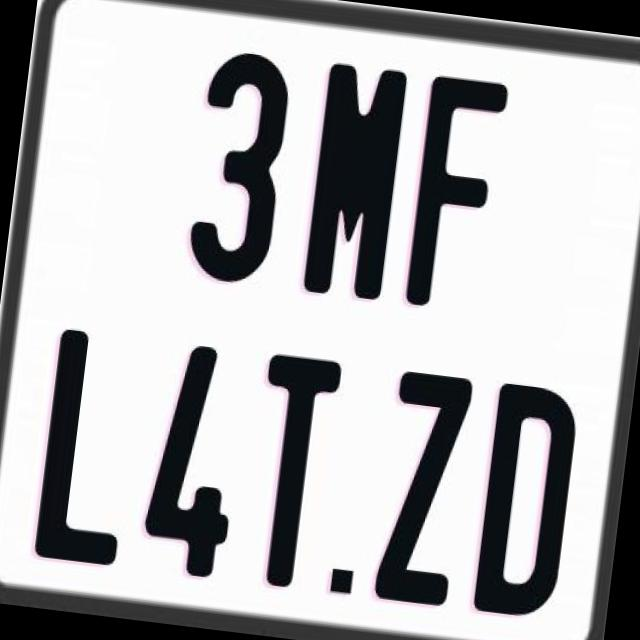3: (182, 48, 294, 288)
4: (135, 339, 249, 587)
D: (470, 377, 579, 614)
F: (400, 75, 513, 322)
L: (28, 328, 146, 576)
M: (299, 63, 404, 300)
T: (242, 349, 345, 586)
Z: (371, 368, 474, 606)
